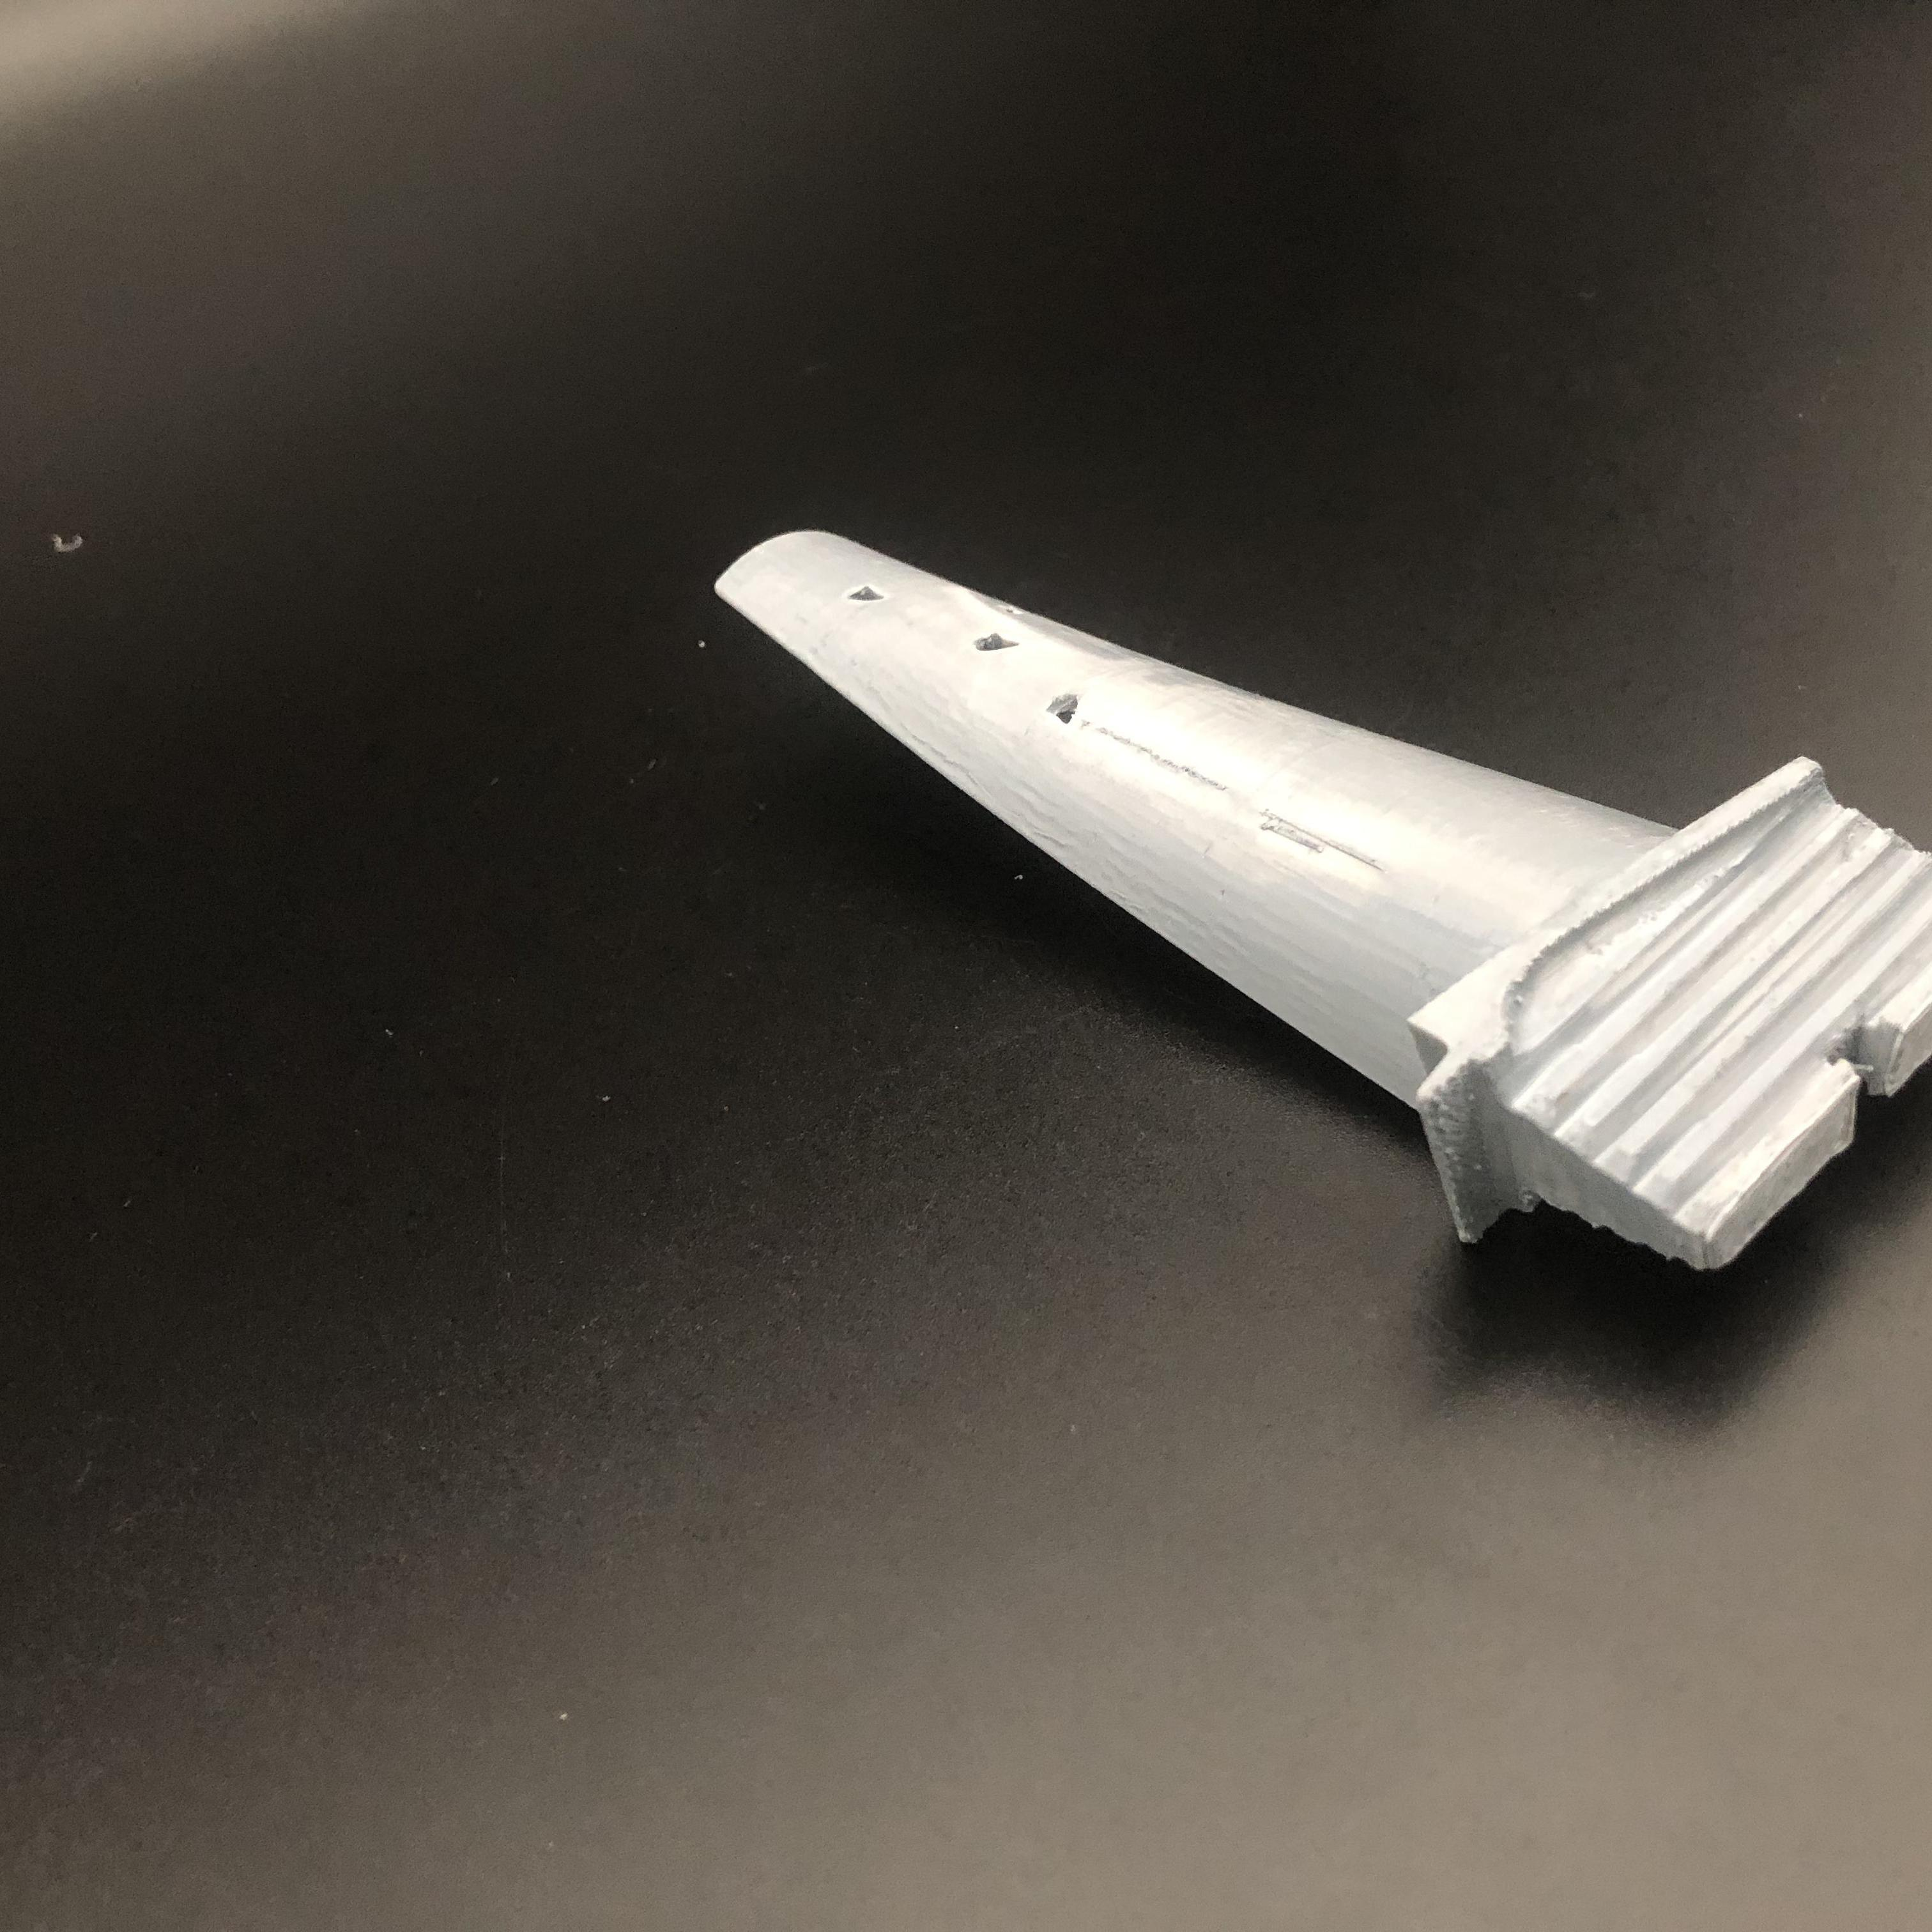breakdown: (835, 564, 1081, 722)
